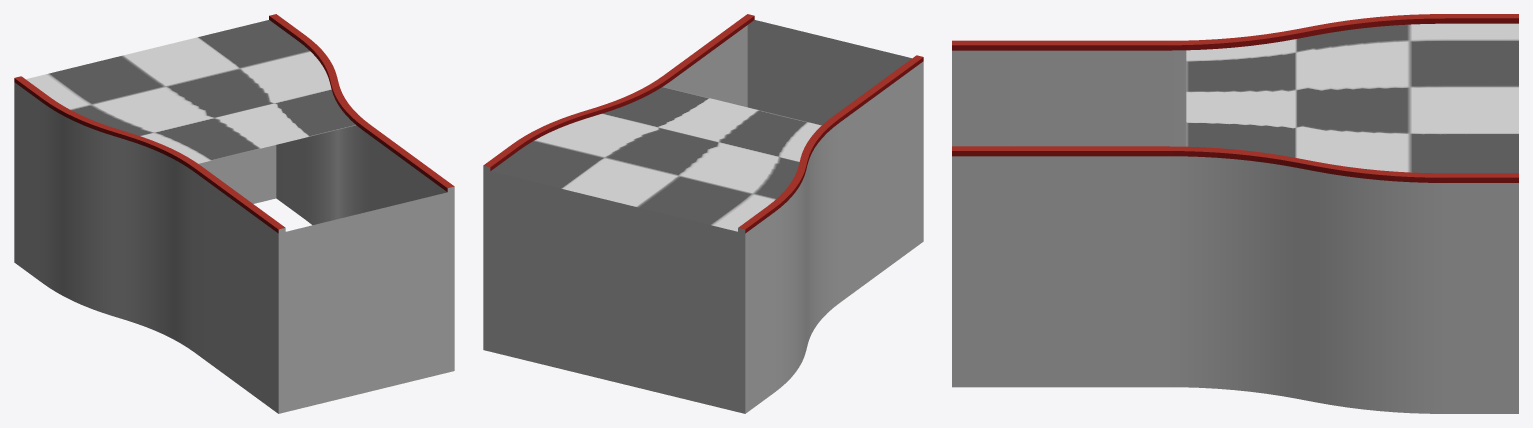
The model's file is Road_Curve_013.fbx.
3 views of the same model, side by side, from view 1: azimuth 30°, elevation 25°; view 2: azimuth 150°, elevation 25°; view 3: azimuth 270°, elevation 25° (orthographic). The views are drawn at different scales.
Visible parts, largest first — view 1: Road_Curve_013, Road_Curve_013_Border; view 2: Road_Curve_013, Road_Curve_013_Border; view 3: Road_Curve_013, Road_Curve_013_Border.
Part boxes in pixels (x1=…): Road_Curve_013: x1=14, y1=20, x2=454, y2=413; Road_Curve_013_Border: x1=14, y1=14, x2=454, y2=233; Road_Curve_013: x1=483, y1=20, x2=923, y2=413; Road_Curve_013_Border: x1=483, y1=14, x2=923, y2=233; Road_Curve_013: x1=952, y1=23, x2=1518, y2=413; Road_Curve_013_Border: x1=952, y1=14, x2=1518, y2=182.
Bounding box in the file's own units: 1303 × 876 × 1906.
